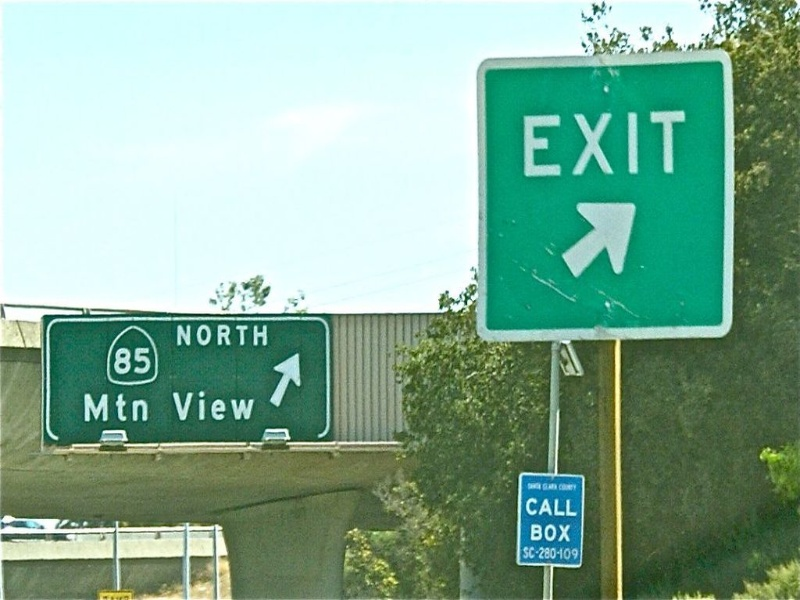exit: (476, 59, 740, 340)
